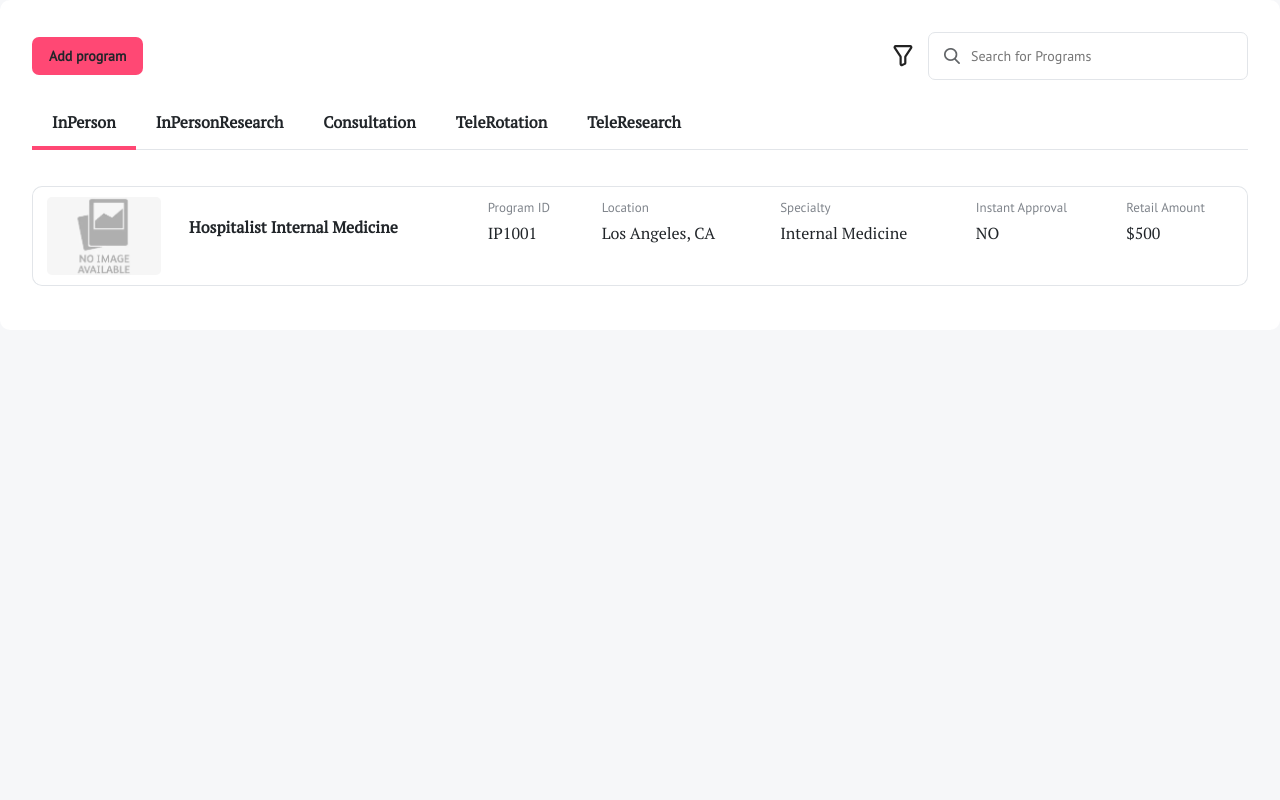
ProgramsPage › shows the program's own name when set (not the derived default), and pre-fills it for edit
Expected: the text "Program ID" is shown, [488, 199, 550, 216]
Expected: the text "Hospitalist Internal Medicine" is shown, [189, 216, 398, 238]
# Opening the row pre-fills the Program name field with the stored value.
What coordinates should you click on to do the following:
click the button "Hospitalist Internal Medicine"
I would click on:
 (640, 236)
Its box is [32, 186, 1248, 286].
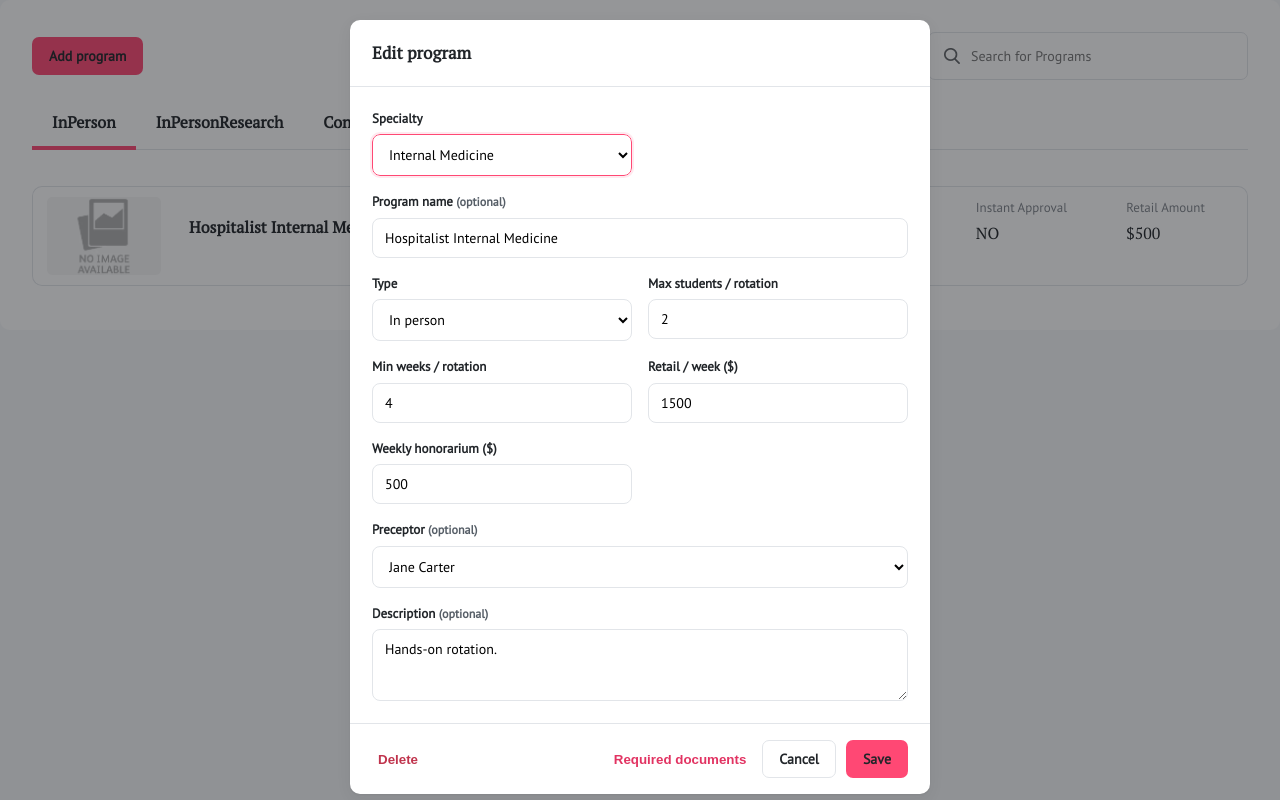
Result: the field labelled "Program name (optional)" holds "Hospitalist Internal Medicine" at [372, 218, 908, 258]
